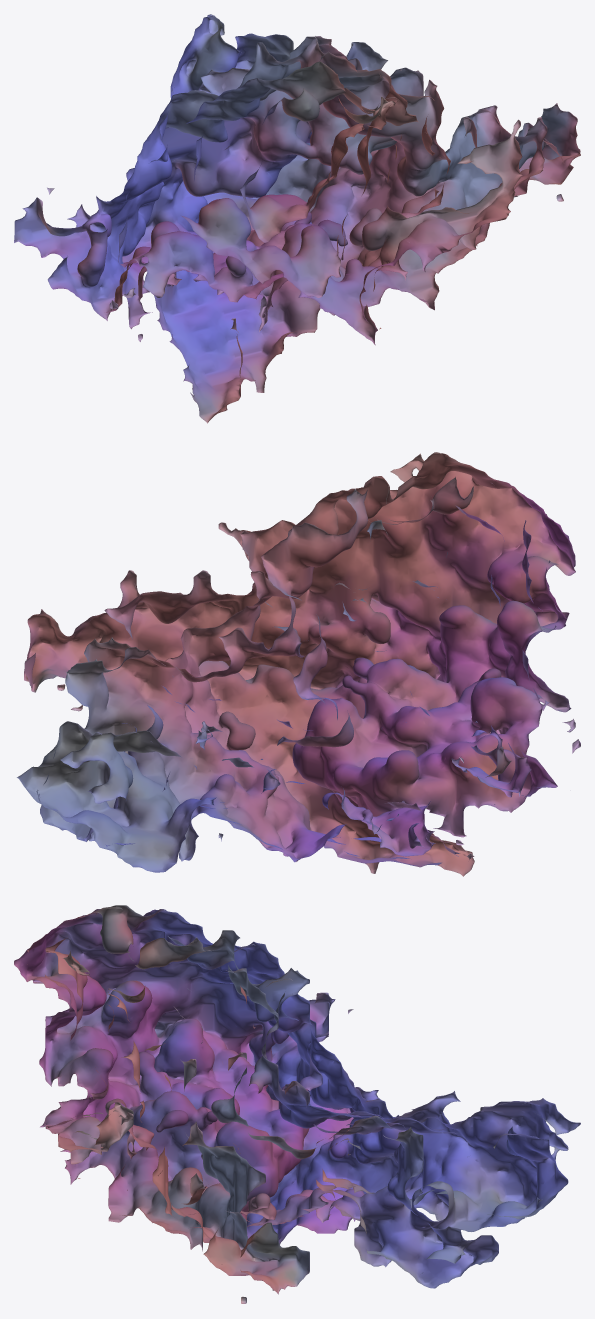
Rendered from Nebula_4.glb.
The picture shows the model from 3 angles, top to bottom: view 1: azimuth 30°, elevation 25°; view 2: azimuth 150°, elevation 25°; view 3: azimuth 270°, elevation 25°; orthographic projection. The views are drawn at different scales.
Visible parts, largest first — view 1: Nebula_4; view 2: Nebula_4; view 3: Nebula_4.
Part boxes in pixels (x1=…): Nebula_4: x1=14, y1=14, x2=580, y2=423; Nebula_4: x1=17, y1=452, x2=580, y2=876; Nebula_4: x1=14, y1=905, x2=580, y2=1303.
Size of the model in its own units: 1.21 by 0.8117 by 1.16.
